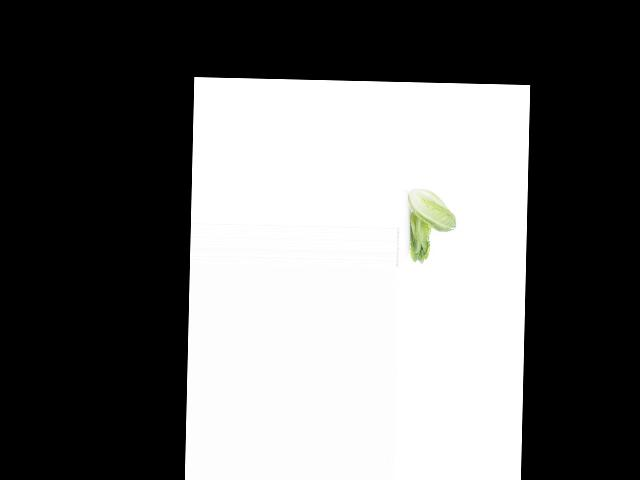lettuce: (402, 211, 436, 263)
